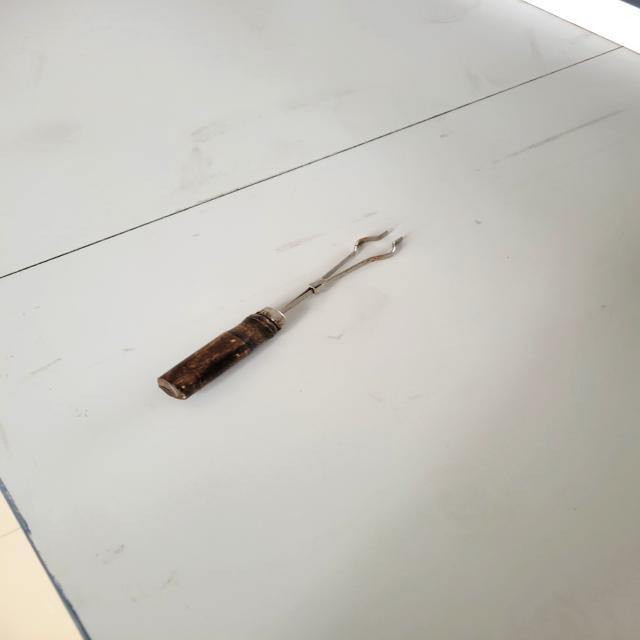TestTube_Holder: (124, 222, 436, 427)
